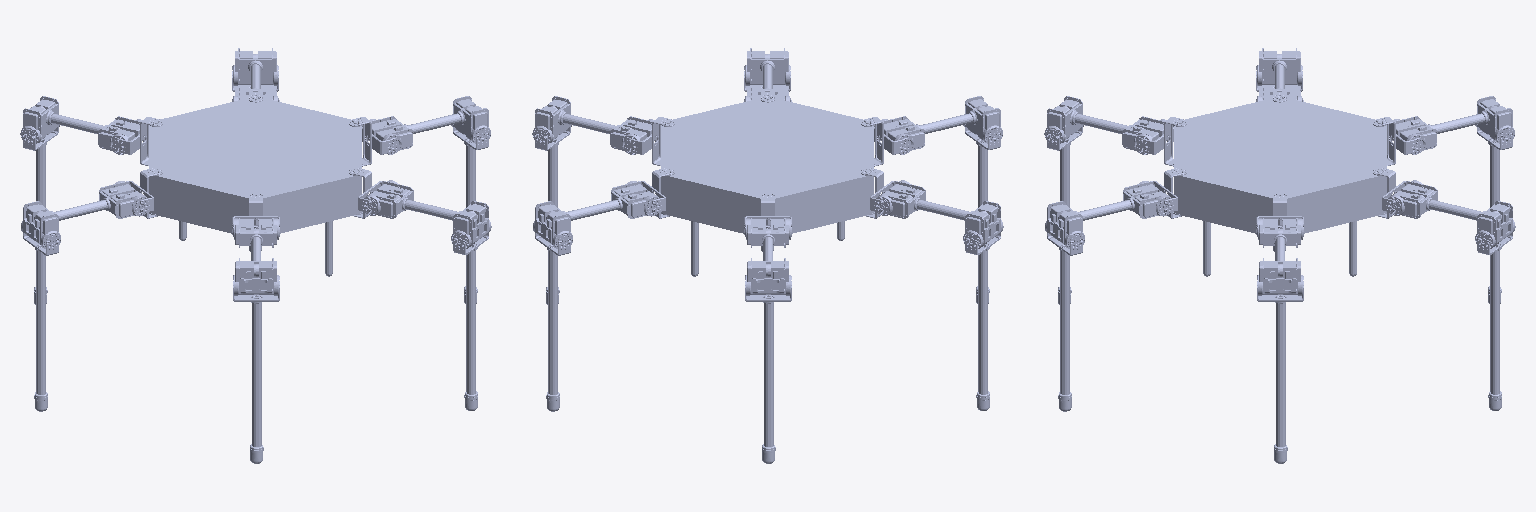
--- What the picture shows (computed from the rendered views, not written in the file) ---
The picture shows the robot from 3 angles, left to right: view 1: azimuth 30°, elevation 25°; view 2: azimuth 150°, elevation 25°; view 3: azimuth 270°, elevation 25°; orthographic projection.
Robot: URDF_Silvia_collision.SLDASM — 19 links, 18 joints (18 revolute); root link torso; default pose: all joints at 0.
Links seen in each view (by area): view 1: torso, RR_Femur, LM_Femur, LR_Femur, LF_Femur, RM_Femur, LM_Tibia, RR_Tibia, LR_Tibia, RF_Femur, LF_Tibia, RM_Tibia (+4 smaller); view 2: torso, LM_Femur, RF_Femur, LF_Femur, RM_Femur, LR_Femur, RF_Tibia, LM_Tibia, LF_Tibia, RR_Femur, RM_Tibia, LR_Tibia (+4 smaller); view 3: torso, RF_Femur, RR_Femur, RM_Femur, LR_Femur, LF_Femur, RR_Tibia, RF_Tibia, RM_Tibia, LM_Femur, LR_Tibia, LF_Tibia (+4 smaller).
Boxes of the visible links, bbox=[...] form: torso: bbox=[149, 98, 361, 276]; RR_Femur: bbox=[364, 180, 491, 248]; LM_Femur: bbox=[21, 181, 147, 248]; LR_Femur: bbox=[233, 218, 279, 295]; LF_Femur: bbox=[20, 96, 143, 154]; RM_Femur: bbox=[362, 96, 490, 154]; LM_Tibia: bbox=[23, 233, 58, 411]; RR_Tibia: bbox=[453, 233, 488, 410]; LR_Tibia: bbox=[233, 281, 279, 463]; RF_Femur: bbox=[232, 48, 278, 101]; LF_Tibia: bbox=[23, 128, 58, 304]; RM_Tibia: bbox=[453, 128, 488, 303]; torso: bbox=[661, 98, 873, 276]; LM_Femur: bbox=[876, 180, 1003, 248]; RF_Femur: bbox=[533, 181, 659, 248]; LF_Femur: bbox=[745, 218, 791, 295]; RM_Femur: bbox=[532, 96, 655, 154]; LR_Femur: bbox=[874, 96, 1002, 154]; RF_Tibia: bbox=[535, 233, 570, 411]; LM_Tibia: bbox=[965, 233, 1000, 410]; LF_Tibia: bbox=[745, 281, 791, 463]; RR_Femur: bbox=[744, 48, 790, 101]; RM_Tibia: bbox=[535, 128, 570, 304]; LR_Tibia: bbox=[965, 128, 1000, 303]; torso: bbox=[1174, 98, 1386, 276]; RF_Femur: bbox=[1388, 180, 1515, 248]; RR_Femur: bbox=[1045, 181, 1171, 248]; RM_Femur: bbox=[1257, 218, 1303, 295]; LR_Femur: bbox=[1044, 96, 1167, 154]; LF_Femur: bbox=[1392, 96, 1514, 154]; RR_Tibia: bbox=[1047, 233, 1082, 411]; RF_Tibia: bbox=[1477, 233, 1512, 410]; RM_Tibia: bbox=[1257, 281, 1303, 463]; LM_Femur: bbox=[1256, 48, 1302, 101]; LR_Tibia: bbox=[1047, 128, 1082, 304]; LF_Tibia: bbox=[1477, 128, 1512, 303].
Size in the robot's own frame: 0.9953 by 0.9019 by 0.4467 metres.
Meshes: 19 distinct files referenced, 19 mesh visuals loaded (19 binary STL).

robot.urdf — URDF_Silvia_collision.SLDASM:
<robot
  name="URDF_Silvia_collision.SLDASM">
  <link
    name="torso">
    <inertial>
      <origin
        xyz="-4.68079258277575E-18 -2.69675254928862E-17 -0.0425442477859752"
        rpy="0 0 0" />
      <mass
        value="12.0920235675445" />
      <inertia
        ixx="0.149172696646228"
        ixy="-2.5020559168504E-17"
        ixz="-1.50790596551797E-17"
        iyy="0.147816950326144"
        iyz="1.24842616648858E-17"
        izz="0.280065401777615" />
    </inertial>
    <visual>
      <origin
        xyz="0 0 0"
        rpy="0 0 0" />
      <geometry>
        <mesh
          filename="package://URDF_Silvia_collision.SLDASM/meshes/torso.STL" />
      </geometry>
      <material
        name="">
        <color
          rgba="0.792156862745098 0.819607843137255 0.933333333333333 1" />
      </material>
    </visual>
    <collision>
      <origin
        xyz="0 0 0"
        rpy="0 0 0" />
      <geometry>
        <mesh
          filename="package://URDF_Silvia_collision.SLDASM/meshes/torso.STL" />
      </geometry>
      <contact_coefficient mu="0" k_p="0" k_d="0" />
    </collision>
  </link>
  <link
    name="RF_Coxa">
    <inertial>
      <origin
        xyz="0.034 1.38777878078145E-17 -6.93889390390723E-18"
        rpy="0 0 0" />
      <mass
        value="0.1274" />
      <inertia
        ixx="9.62400833333334E-05"
        ixy="3.38813178901715E-21"
        ixz="-1.02047932905951E-20"
        iyy="0.000114458283333333"
        iyz="8.89131936292817E-21"
        izz="3.48651333333333E-05" />
    </inertial>
    <visual>
      <origin
        xyz="0 0 0"
        rpy="0 0 0" />
      <geometry>
        <mesh
          filename="package://URDF_Silvia_collision.SLDASM/meshes/RF_Coxa.STL" />
      </geometry>
      <material
        name="">
        <color
          rgba="0.792156862745098 0.819607843137255 0.933333333333333 1" />
      </material>
    </visual>
    <collision>
      <origin
        xyz="0 0 0"
        rpy="0 0 0" />
      <geometry>
        <mesh
          filename="package://URDF_Silvia_collision.SLDASM/meshes/RF_Coxa.STL" />
      </geometry>
    </collision>
  </link>
  <joint
    name="RF_Coxa"
    type="revolute">
    <origin
      xyz="0.110395052406582 0.191205694483979 -0.0411"
      rpy="-5.39663103724332E-16 -1.08690163350401E-15 1.04719755119655" />
    <parent
      link="torso" />
    <child
      link="RF_Coxa" />
    <axis
      xyz="0 0 1" />
  </joint>
  <link
    name="RF_Femur">
    <inertial>
      <origin
        xyz="0.10975 4.16333634234434E-17 -4.16333634234434E-17"
        rpy="0 0 0" />
      <mass
        value="0.750031499999998" />
      <inertia
        ixx="0.000552588207729998"
        ixy="-7.76441592278292E-19"
        ixz="-2.71050543121376E-19"
        iyy="0.00346297356378124"
        iyz="5.76574357467156E-20"
        izz="0.00311239884026124" />
    </inertial>
    <visual>
      <origin
        xyz="0 0 0"
        rpy="0 0 0" />
      <geometry>
        <mesh
          filename="package://URDF_Silvia_collision.SLDASM/meshes/RF_Femur.STL" />
      </geometry>
      <material
        name="">
        <color
          rgba="0.792156862745098 0.819607843137255 0.933333333333333 1" />
      </material>
    </visual>
    <collision>
      <origin
        xyz="0 0 0"
        rpy="0 0 0" />
      <geometry>
        <mesh
          filename="package://URDF_Silvia_collision.SLDASM/meshes/RF_Femur.STL" />
      </geometry>
    </collision>
  </link>
  <joint
    name="RF_Femur"
    type="revolute">
    <origin
      xyz="0.0569999999999997 0.000499999999999855 0"
      rpy="1.5707963267949 4.81153331183249E-16 -1.03805852802452E-14" />
    <parent
      link="RF_Coxa" />
    <child
      link="RF_Femur" />
    <axis
      xyz="0 0 1" />
  </joint>
  <link
    name="RF_Tibia">
    <inertial>
      <origin
        xyz="5.55111512312578E-17 -0.131709927052439 2.1467203015213E-17"
        rpy="0 0 0" />
      <mass
        value="0.27249436862269" />
      <inertia
        ixx="0.00410733533858373"
        ixy="5.55509832270988E-20"
        ixz="-2.10648587667354E-33"
        iyy="8.81242945143448E-05"
        iyz="-1.02629968190585E-18"
        izz="0.00404604861308373" />
    </inertial>
    <visual>
      <origin
        xyz="0 0 0"
        rpy="0 0 0" />
      <geometry>
        <mesh
          filename="package://URDF_Silvia_collision.SLDASM/meshes/RF_Tibia.STL" />
      </geometry>
      <material
        name="">
        <color
          rgba="0.792156862745098 0.819607843137255 0.933333333333333 1" />
      </material>
    </visual>
    <collision>
      <origin
        xyz="0 0 0"
        rpy="0 0 0" />
      <geometry>
        <mesh
          filename="package://URDF_Silvia_collision.SLDASM/meshes/RF_Tibia.STL" />
      </geometry>
    </collision>
  </link>
  <joint
    name="RF_Tibia"
    type="revolute">
    <origin
      xyz="0.197499999999995 -0.026499999999987 -0.000500000000000222"
      rpy="-1.71078416456661E-16 3.88578058618805E-16 4.28840521945901E-16" />
    <parent
      link="RF_Femur" />
    <child
      link="RF_Tibia" />
    <axis
      xyz="0 0 1" />
  </joint>
  <link
    name="RM_Coxa">
    <inertial>
      <origin
        xyz="0.0339999999999999 -1.65340831304039E-18 0"
        rpy="0 0 0" />
      <mass
        value="0.1274" />
      <inertia
        ixx="9.62400833333333E-05"
        ixy="8.95313825247795E-22"
        ixz="2.55795421013709E-21"
        iyy="0.000114458283333333"
        iyz="1.00586946902524E-20"
        izz="3.48651333333334E-05" />
    </inertial>
    <visual>
      <origin
        xyz="0 0 0"
        rpy="0 0 0" />
      <geometry>
        <mesh
          filename="package://URDF_Silvia_collision.SLDASM/meshes/RM_Coxa.STL" />
      </geometry>
      <material
        name="">
        <color
          rgba="0.792156862745098 0.819607843137255 0.933333333333333 1" />
      </material>
    </visual>
    <collision>
      <origin
        xyz="0 0 0"
        rpy="0 0 0" />
      <geometry>
        <mesh
          filename="package://URDF_Silvia_collision.SLDASM/meshes/RM_Coxa.STL" />
      </geometry>
    </collision>
  </link>
  <joint
    name="RM_Coxa"
    type="revolute">
    <origin
      xyz="0.221136515003529 -0.000204145205102327 -0.0411"
      rpy="0 0 0" />
    <parent
      link="torso" />
    <child
      link="RM_Coxa" />
    <axis
      xyz="0 0 1" />
  </joint>
  <link
    name="RM_Femur">
    <inertial>
      <origin
        xyz="0.10975 3.46944695195361E-17 -4.01154803819637E-18"
        rpy="0 0 0" />
      <mass
        value="0.750031499999999" />
      <inertia
        ixx="0.000552588207729999"
        ixy="-9.52515740004141E-19"
        ixz="7.49560100606101E-20"
        iyy="0.00346297356378124"
        iyz="-5.78338501845331E-21"
        izz="0.00311239884026124" />
    </inertial>
    <visual>
      <origin
        xyz="0 0 0"
        rpy="0 0 0" />
      <geometry>
        <mesh
          filename="package://URDF_Silvia_collision.SLDASM/meshes/RM_Femur.STL" />
      </geometry>
      <material
        name="">
        <color
          rgba="0.792156862745098 0.819607843137255 0.933333333333333 1" />
      </material>
    </visual>
    <collision>
      <origin
        xyz="0 0 0"
        rpy="0 0 0" />
      <geometry>
        <mesh
          filename="package://URDF_Silvia_collision.SLDASM/meshes/RM_Femur.STL" />
      </geometry>
    </collision>
  </link>
  <joint
    name="RM_Femur"
    type="revolute">
    <origin
      xyz="0.0569999999999996 0.000499999999999927 0"
      rpy="1.5707963267949 -5.90596833235144E-16 -1.0265205189556E-14" />
    <parent
      link="RM_Coxa" />
    <child
      link="RM_Femur" />
    <axis
      xyz="0 0 1" />
  </joint>
  <link
    name="RM_Tibia">
    <inertial>
      <origin
        xyz="0 -0.131709927052439 -2.23345647532014E-17"
        rpy="0 0 0" />
      <mass
        value="0.27249436862269" />
      <inertia
        ixx="0.00410733533858373"
        ixy="1.4146204583262E-20"
        ixz="-1.1561791260814E-20"
        iyy="8.81242945143448E-05"
        iyz="-6.46643452577581E-19"
        izz="0.00404604861308373" />
    </inertial>
    <visual>
      <origin
        xyz="0 0 0"
        rpy="0 0 0" />
      <geometry>
        <mesh
          filename="package://URDF_Silvia_collision.SLDASM/meshes/RM_Tibia.STL" />
      </geometry>
      <material
        name="">
        <color
          rgba="0.792156862745098 0.819607843137255 0.933333333333333 1" />
      </material>
    </visual>
    <collision>
      <origin
        xyz="0 0 0"
        rpy="0 0 0" />
      <geometry>
        <mesh
          filename="package://URDF_Silvia_collision.SLDASM/meshes/RM_Tibia.STL" />
      </geometry>
    </collision>
  </link>
  <joint
    name="RM_Tibia"
    type="revolute">
    <origin
      xyz="0.197499999999995 -0.0264999999999865 -0.000499999999992858"
      rpy="4.05010841783846E-16 -1.52144132255913E-14 -5.91889470417481E-16" />
    <parent
      link="RM_Femur" />
    <child
      link="RM_Tibia" />
    <axis
      xyz="0 0 1" />
  </joint>
  <link
    name="RR_Coxa">
    <inertial>
      <origin
        xyz="0.034 2.77555756156289E-17 0"
        rpy="0 0 0" />
      <mass
        value="0.1274" />
      <inertia
        ixx="9.62400833333335E-05"
        ixy="6.77626357803444E-21"
        ixz="-5.40705042229183E-21"
        iyy="0.000114458283333334"
        iyz="1.24645831963832E-20"
        izz="3.48651333333334E-05" />
    </inertial>
    <visual>
      <origin
        xyz="0 0 0"
        rpy="0 0 0" />
      <geometry>
        <mesh
          filename="package://URDF_Silvia_collision.SLDASM/meshes/RR_Coxa.STL" />
      </geometry>
      <material
        name="">
        <color
          rgba="0.792156862745098 0.819607843137255 0.933333333333333 1" />
      </material>
    </visual>
    <collision>
      <origin
        xyz="0 0 0"
        rpy="0 0 0" />
      <geometry>
        <mesh
          filename="package://URDF_Silvia_collision.SLDASM/meshes/RR_Coxa.STL" />
      </geometry>
    </collision>
  </link>
  <joint
    name="RR_Coxa"
    type="revolute">
    <origin
      xyz="0.110741462568083 -0.191813984894186 -0.0411"
      rpy="1.04921130408763E-15 -3.33066907387547E-16 -1.04719755119661" />
    <parent
      link="torso" />
    <child
      link="RR_Coxa" />
    <axis
      xyz="0 0 1" />
  </joint>
  <link
    name="RR_Femur">
    <inertial>
      <origin
        xyz="0.10975 3.46944695195361E-17 -1.38777878078145E-17"
        rpy="0 0 0" />
      <mass
        value="0.750031499999999" />
      <inertia
        ixx="0.000552588207729999"
        ixy="-7.43933951545773E-19"
        ixz="-2.7105054312137E-20"
        iyy="0.00346297356378125"
        iyz="-1.03832798067396E-20"
        izz="0.00311239884026125" />
    </inertial>
    <visual>
      <origin
        xyz="0 0 0"
        rpy="0 0 0" />
      <geometry>
        <mesh
          filename="package://URDF_Silvia_collision.SLDASM/meshes/RR_Femur.STL" />
      </geometry>
      <material
        name="">
        <color
          rgba="0.792156862745098 0.819607843137255 0.933333333333333 1" />
      </material>
    </visual>
    <collision>
      <origin
        xyz="0 0 0"
        rpy="0 0 0" />
      <geometry>
        <mesh
          filename="package://URDF_Silvia_collision.SLDASM/meshes/RR_Femur.STL" />
      </geometry>
    </collision>
  </link>
  <joint
    name="RR_Femur"
    type="revolute">
    <origin
      xyz="0.0569999999999997 0.000500000000000034 0"
      rpy="1.5707963267949 6.65905161136378E-16 -1.01030295240889E-14" />
    <parent
      link="RR_Coxa" />
    <child
      link="RR_Femur" />
    <axis
      xyz="0 0 1" />
  </joint>
  <link
    name="RR_Tibia">
    <inertial>
      <origin
        xyz="0 -0.131709927052439 -4.33680868994202E-18"
        rpy="0 0 0" />
      <mass
        value="0.272494368622691" />
      <inertia
        ixx="0.00410733533858373"
        ixy="1.04480438173758E-19"
        ixz="-1.0842021724855E-19"
        iyy="8.81242945143451E-05"
        iyz="-2.30789318587402E-19"
        izz="0.00404604861308373" />
    </inertial>
    <visual>
      <origin
        xyz="0 0 0"
        rpy="0 0 0" />
      <geometry>
        <mesh
          filename="package://URDF_Silvia_collision.SLDASM/meshes/RR_Tibia.STL" />
      </geometry>
      <material
        name="">
        <color
          rgba="0.792156862745098 0.819607843137255 0.933333333333333 1" />
      </material>
    </visual>
    <collision>
      <origin
        xyz="0 0 0"
        rpy="0 0 0" />
      <geometry>
        <mesh
          filename="package://URDF_Silvia_collision.SLDASM/meshes/RR_Tibia.STL" />
      </geometry>
    </collision>
  </link>
  <joint
    name="RR_Tibia"
    type="revolute">
    <origin
      xyz="0.197499999999995 -0.0264999999999868 -0.000500000000000025"
      rpy="1.5043318639474E-16 2.77555756156289E-16 3.1922744524727E-16" />
    <parent
      link="RR_Femur" />
    <child
      link="RR_Tibia" />
    <axis
      xyz="0 0 1" />
  </joint>
  <link
    name="LR_Coxa">
    <inertial>
      <origin
        xyz="0.034 0 -6.93889390390723E-18"
        rpy="0 0 0" />
      <mass
        value="0.1274" />
      <inertia
        ixx="9.62400833333333E-05"
        ixy="3.38813178901721E-21"
        ixz="8.24810675700223E-21"
        iyy="0.000114458283333333"
        iyz="1.16407031888381E-20"
        izz="3.48651333333334E-05" />
    </inertial>
    <visual>
      <origin
        xyz="0 0 0"
        rpy="0 0 0" />
      <geometry>
        <mesh
          filename="package://URDF_Silvia_collision.SLDASM/meshes/LR_Coxa.STL" />
      </geometry>
      <material
        name="">
        <color
          rgba="0.792156862745098 0.819607843137255 0.933333333333333 1" />
      </material>
    </visual>
    <collision>
      <origin
        xyz="0 0 0"
        rpy="0 0 0" />
      <geometry>
        <mesh
          filename="package://URDF_Silvia_collision.SLDASM/meshes/LR_Coxa.STL" />
      </geometry>
    </collision>
  </link>
  <joint
    name="LR_Coxa"
    type="revolute">
    <origin
      xyz="-0.110395052406575 -0.192013984860853 -0.0411000000000001"
      rpy="2.90792643314256E-16 -1.52655665885959E-16 -2.09439510239319" />
    <parent
      link="torso" />
    <child
      link="LR_Coxa" />
    <axis
      xyz="0 0 1" />
  </joint>
  <link
    name="LR_Femur">
    <inertial>
      <origin
        xyz="0.10975 2.08166817117217E-17 -2.77555756156289E-17"
        rpy="0 0 0" />
      <mass
        value="0.750031499999999" />
      <inertia
        ixx="0.000552588207729999"
        ixy="-1.02101450892145E-18"
        ixz="4.87890977618477E-19"
        iyy="0.00346297356378125"
        iyz="4.01499410324917E-20"
        izz="0.00311239884026124" />
    </inertial>
    <visual>
      <origin
        xyz="0 0 0"
        rpy="0 0 0" />
      <geometry>
        <mesh
          filename="package://URDF_Silvia_collision.SLDASM/meshes/LR_Femur.STL" />
      </geometry>
      <material
        name="">
        <color
          rgba="0.792156862745098 0.819607843137255 0.933333333333333 1" />
      </material>
    </visual>
    <collision>
      <origin
        xyz="0 0 0"
        rpy="0 0 0" />
      <geometry>
        <mesh
          filename="package://URDF_Silvia_collision.SLDASM/meshes/LR_Femur.STL" />
      </geometry>
    </collision>
  </link>
  <joint
    name="LR_Femur"
    type="revolute">
    <origin
      xyz="0.0569999999999997 0.000499999999999891 0"
      rpy="1.5707963267949 9.85322934354823E-16 -1.07136521876328E-14" />
    <parent
      link="LR_Coxa" />
    <child
      link="LR_Femur" />
    <axis
      xyz="0 0 1" />
  </joint>
  <link
    name="LR_Tibia">
    <inertial>
      <origin
        xyz="0 -0.131709927052439 -3.51281503885303E-17"
        rpy="0 0 0" />
      <mass
        value="0.27249436862269" />
      <inertia
        ixx="0.00410733533858373"
        ixy="2.2709092371145E-19"
        ixz="1.08420217248551E-19"
        iyy="8.81242945143449E-05"
        iyz="-1.16787274160764E-18"
        izz="0.00404604861308373" />
    </inertial>
    <visual>
      <origin
        xyz="0 0 0"
        rpy="0 0 0" />
      <geometry>
        <mesh
          filename="package://URDF_Silvia_collision.SLDASM/meshes/LR_Tibia.STL" />
      </geometry>
      <material
        name="">
        <color
          rgba="0.792156862745098 0.819607843137255 0.933333333333333 1" />
      </material>
    </visual>
    <collision>
      <origin
        xyz="0 0 0"
        rpy="0 0 0" />
      <geometry>
        <mesh
          filename="package://URDF_Silvia_collision.SLDASM/meshes/LR_Tibia.STL" />
      </geometry>
    </collision>
  </link>
  <joint
    name="LR_Tibia"
    type="revolute">
    <origin
      xyz="0.197499999999995 -0.026499999999987 -0.000500000000000265"
      rpy="-7.5829642775218E-17 6.66133814775094E-16 5.55111512312578E-16" />
    <parent
      link="LR_Femur" />
    <child
      link="LR_Tibia" />
    <axis
      xyz="0 0 1" />
  </joint>
  <link
    name="LM_Coxa">
    <inertial>
      <origin
        xyz="0.034 -1.0842021724855E-18 -6.93889390390723E-18"
        rpy="0 0 0" />
      <mass
        value="0.1274" />
      <inertia
        ixx="9.62400833333332E-05"
        ixy="1.21903829695789E-21"
        ixz="1.57612665821863E-20"
        iyy="0.000114458283333333"
        iyz="1.08602093205561E-20"
        izz="3.48651333333333E-05" />
    </inertial>
    <visual>
      <origin
        xyz="0 0 0"
        rpy="0 0 0" />
      <geometry>
        <mesh
          filename="package://URDF_Silvia_collision.SLDASM/meshes/LM_Coxa.STL" />
      </geometry>
      <material
        name="">
        <color
          rgba="0.792156862745098 0.819607843137255 0.933333333333333 1" />
      </material>
    </visual>
    <collision>
      <origin
        xyz="0 0 0"
        rpy="0 0 0" />
      <geometry>
        <mesh
          filename="package://URDF_Silvia_collision.SLDASM/meshes/LM_Coxa.STL" />
      </geometry>
    </collision>
  </link>
  <joint
    name="LM_Coxa"
    type="revolute">
    <origin
      xyz="-0.221136515003529 -0.000604145171771042 -0.0411"
      rpy="3.13661300568136E-16 -4.57966997657893E-16 -3.14159265358976" />
    <parent
      link="torso" />
    <child
      link="LM_Coxa" />
    <axis
      xyz="0 0 1" />
  </joint>
  <link
    name="LM_Femur">
    <inertial>
      <origin
        xyz="0.10975 3.46944695195361E-17 -2.16840434497101E-18"
        rpy="0 0 0" />
      <mass
        value="0.750031499999999" />
      <inertia
        ixx="0.000552588207729999"
        ixy="-7.50196724021888E-19"
        ixz="6.90299918498244E-20"
        iyy="0.00346297356378124"
        iyz="3.65346937266987E-20"
        izz="0.00311239884026125" />
    </inertial>
    <visual>
      <origin
        xyz="0 0 0"
        rpy="0 0 0" />
      <geometry>
        <mesh
          filename="package://URDF_Silvia_collision.SLDASM/meshes/LM_Femur.STL" />
      </geometry>
      <material
        name="">
        <color
          rgba="0.792156862745098 0.819607843137255 0.933333333333333 1" />
      </material>
    </visual>
    <collision>
      <origin
        xyz="0 0 0"
        rpy="0 0 0" />
      <geometry>
        <mesh
          filename="package://URDF_Silvia_collision.SLDASM/meshes/LM_Femur.STL" />
      </geometry>
    </collision>
  </link>
  <joint
    name="LM_Femur"
    type="revolute">
    <origin
      xyz="0.0569999999999997 0.000499999999999926 0"
      rpy="1.5707963267949 5.81657889231598E-16 -1.03111963412077E-14" />
    <parent
      link="LM_Coxa" />
    <child
      link="LM_Femur" />
    <axis
      xyz="0 0 1" />
  </joint>
  <link
    name="LM_Tibia">
    <inertial>
      <origin
        xyz="0 -0.131709927052439 -5.65953534037433E-17"
        rpy="0 0 0" />
      <mass
        value="0.27249436862269" />
      <inertia
        ixx="0.00410733533858373"
        ixy="-2.89417263567462E-19"
        ixz="-3.21787577013275E-21"
        iyy="8.81242945143449E-05"
        iyz="-7.96083026083569E-19"
        izz="0.00404604861308373" />
    </inertial>
    <visual>
      <origin
        xyz="0 0 0"
        rpy="0 0 0" />
      <geometry>
        <mesh
          filename="package://URDF_Silvia_collision.SLDASM/meshes/LM_Tibia.STL" />
      </geometry>
      <material
        name="">
        <color
          rgba="0.792156862745098 0.819607843137255 0.933333333333333 1" />
      </material>
    </visual>
    <collision>
      <origin
        xyz="0 0 0"
        rpy="0 0 0" />
      <geometry>
        <mesh
          filename="package://URDF_Silvia_collision.SLDASM/meshes/LM_Tibia.STL" />
      </geometry>
    </collision>
  </link>
  <joint
    name="LM_Tibia"
    type="revolute">
    <origin
      xyz="0.197499999999994 -0.0264999999999877 -0.00049999999998687"
      rpy="2.447921408846E-16 4.16333634241786E-17 4.17207842060058E-17" />
    <parent
      link="LM_Femur" />
    <child
      link="LM_Tibia" />
    <axis
      xyz="0 0 1" />
  </joint>
  <link
    name="LF_Coxa">
    <inertial>
      <origin
        xyz="0.0339999999999999 0 6.93889390390723E-18"
        rpy="0 0 0" />
      <mass
        value="0.1274" />
      <inertia
        ixx="9.62400833333332E-05"
        ixy="1.35525271560688E-20"
        ixz="7.61631805321468E-21"
        iyy="0.000114458283333333"
        iyz="-1.37532713184278E-21"
        izz="3.48651333333333E-05" />
    </inertial>
    <visual>
      <origin
        xyz="0 0 0"
        rpy="0 0 0" />
      <geometry>
        <mesh
          filename="package://URDF_Silvia_collision.SLDASM/meshes/LF_Coxa.STL" />
      </geometry>
      <material
        name="">
        <color
          rgba="0.792156862745098 0.819607843137255 0.933333333333333 1" />
      </material>
    </visual>
    <collision>
      <origin
        xyz="0 0 0"
        rpy="0 0 0" />
      <geometry>
        <mesh
          filename="package://URDF_Silvia_collision.SLDASM/meshes/LF_Coxa.STL" />
      </geometry>
    </collision>
  </link>
  <joint
    name="LF_Coxa"
    type="revolute">
    <origin
      xyz="-0.110741462568097 0.191005694483978 -0.0411"
      rpy="3.91752055435901E-16 -7.73686670285656E-16 2.09439510239324" />
    <parent
      link="torso" />
    <child
      link="LF_Coxa" />
    <axis
      xyz="0 0 1" />
  </joint>
  <link
    name="LF_Femur">
    <inertial>
      <origin
        xyz="0.10975 3.46944695195361E-17 4.16333634234434E-17"
        rpy="0 0 0" />
      <mass
        value="0.750031499999998" />
      <inertia
        ixx="0.000552588207729998"
        ixy="-8.39870289427459E-19"
        ixz="-4.6078592330634E-19"
        iyy="0.00346297356378124"
        iyz="5.48018608142116E-20"
        izz="0.00311239884026124" />
    </inertial>
    <visual>
      <origin
        xyz="0 0 0"
        rpy="0 0 0" />
      <geometry>
        <mesh
          filename="package://URDF_Silvia_collision.SLDASM/meshes/LF_Femur.STL" />
      </geometry>
      <material
        name="">
        <color
          rgba="0.792156862745098 0.819607843137255 0.933333333333333 1" />
      </material>
    </visual>
    <collision>
      <origin
        xyz="0 0 0"
        rpy="0 0 0" />
      <geometry>
        <mesh
          filename="package://URDF_Silvia_collision.SLDASM/meshes/LF_Femur.STL" />
      </geometry>
    </collision>
  </link>
  <joint
    name="LF_Femur"
    type="revolute">
    <origin
      xyz="0.0569999999999997 0.000499999999999884 0"
      rpy="1.5707963267949 3.85108611666847E-16 -1.10467190950203E-14" />
    <parent
      link="LF_Coxa" />
    <child
      link="LF_Femur" />
    <axis
      xyz="0 0 1" />
  </joint>
  <link
    name="LF_Tibia">
    <inertial>
      <origin
        xyz="5.55111512312578E-17 -0.131709927052439 -4.81385764583564E-17"
        rpy="0 0 0" />
      <mass
        value="0.27249436862269" />
      <inertia
        ixx="0.00410733533858373"
        ixy="-1.65934204266786E-19"
        ixz="-1.08420217248551E-19"
        iyy="8.8124294514345E-05"
        iyz="-1.12309960419516E-18"
        izz="0.00404604861308373" />
    </inertial>
    <visual>
      <origin
        xyz="0 0 0"
        rpy="0 0 0" />
      <geometry>
        <mesh
          filename="package://URDF_Silvia_collision.SLDASM/meshes/LF_Tibia.STL" />
      </geometry>
      <material
        name="">
        <color
          rgba="0.792156862745098 0.819607843137255 0.933333333333333 1" />
      </material>
    </visual>
    <collision>
      <origin
        xyz="0 0 0"
        rpy="0 0 0" />
      <geometry>
        <mesh
          filename="package://URDF_Silvia_collision.SLDASM/meshes/LF_Tibia.STL" />
      </geometry>
    </collision>
  </link>
  <joint
    name="LF_Tibia"
    type="revolute">
    <origin
      xyz="0.197499999999995 -0.0264999999999869 -0.000500000000000329"
      rpy="-3.28814406739269E-16 7.7715611723761E-16 4.99600361081318E-16" />
    <parent
      link="LF_Femur" />
    <child
      link="LF_Tibia" />
    <axis
      xyz="0 0 1" />
  </joint>
</robot>
